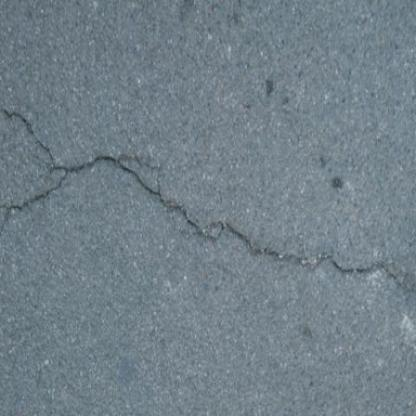Cracks: (1, 104, 415, 296)
